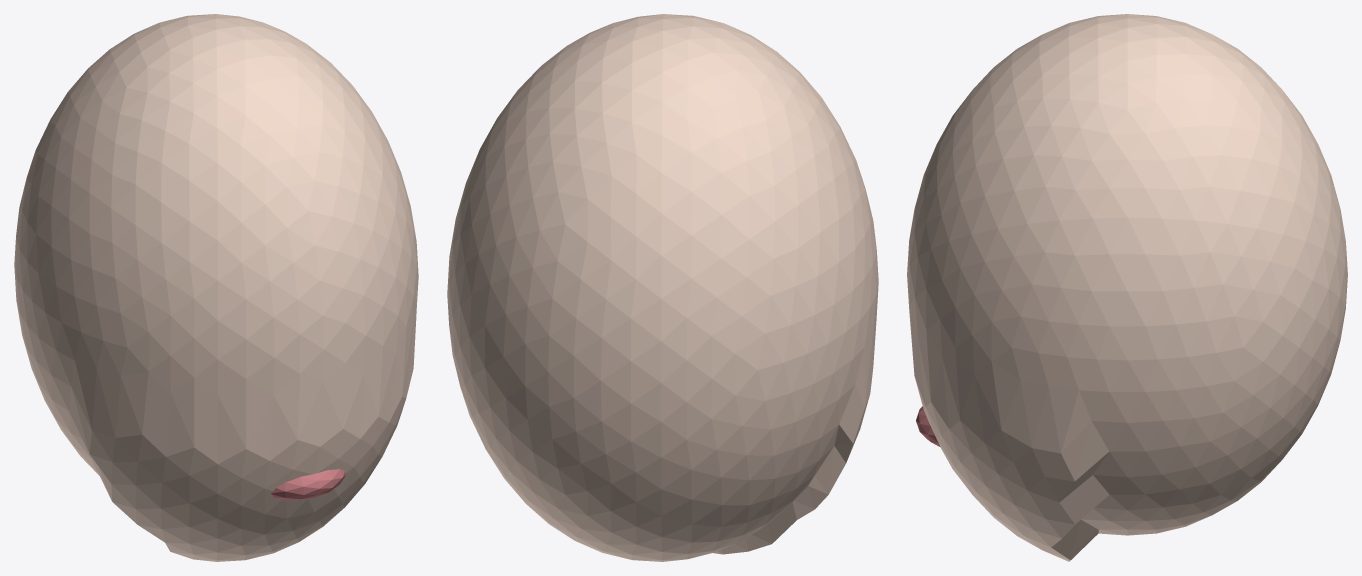
The model's file is test_head.rigged.glb.
The picture shows the model from 3 angles, left to right: view 1: azimuth 30°, elevation 25°; view 2: azimuth 150°, elevation 25°; view 3: azimuth 270°, elevation 25°; orthographic projection. The views are drawn at different scales.
Parts seen in each view (by area): view 1: Head, Tongue; view 2: Head; view 3: Head.
Part boxes in pixels (x1,y1,x2,y2): Head: [14, 14, 418, 561]; Tongue: [271, 469, 345, 500]; Head: [447, 14, 878, 561]; Head: [907, 14, 1347, 561].
Bounding box in the file's own units: 1.56 × 2.21 × 1.7.
